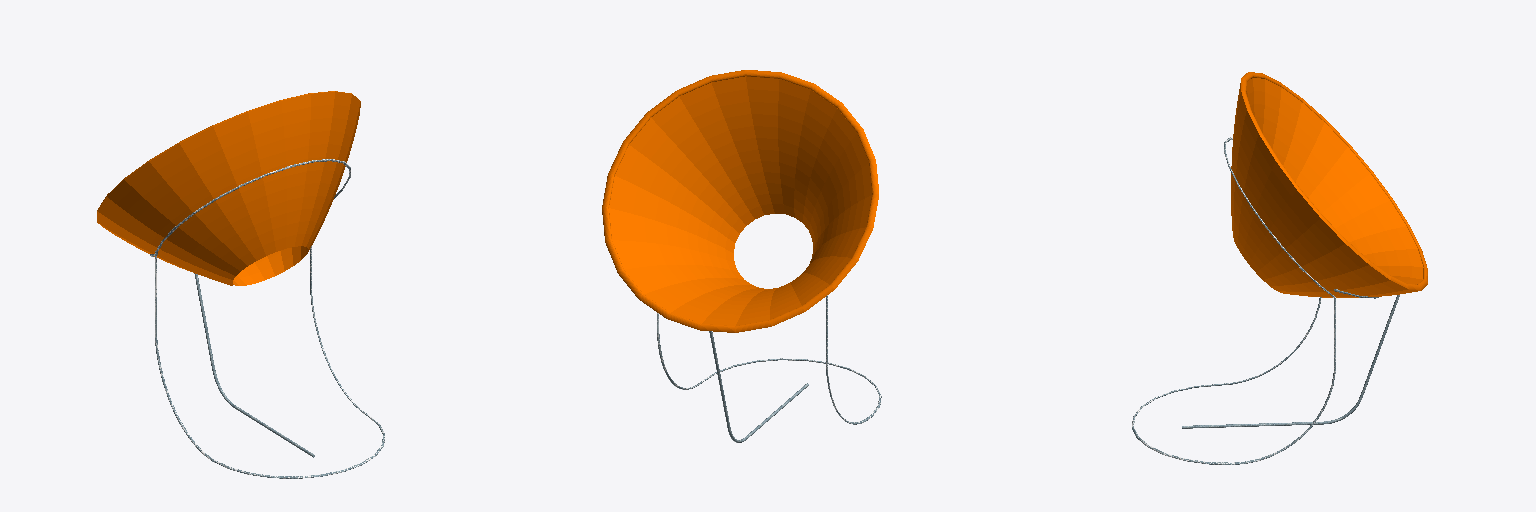
3 renders of one model, left to right at view 1: azimuth 30°, elevation 25°; view 2: azimuth 150°, elevation 25°; view 3: azimuth 270°, elevation 25°, orthographic.
Parts seen in each view (by area): view 1: mesh17_mesh17-geometry, mesh20_mesh20-geometry; view 2: mesh17_mesh17-geometry, mesh20_mesh20-geometry; view 3: mesh17_mesh17-geometry, mesh20_mesh20-geometry, mesh9_mesh9-geometry.
Boxes of the visible parts, <box> form: mesh17_mesh17-geometry: <box>97,91,360,285</box>; mesh20_mesh20-geometry: <box>155,159,384,478</box>; mesh17_mesh17-geometry: <box>602,70,878,332</box>; mesh20_mesh20-geometry: <box>657,295,881,424</box>; mesh17_mesh17-geometry: <box>1231,72,1427,297</box>; mesh20_mesh20-geometry: <box>1132,137,1335,464</box>; mesh9_mesh9-geometry: <box>1182,289,1398,427</box>.
Bounding box in the file's own units: 0.5267 × 0.6638 × 0.531.
Materials: 4 (1 with a texture image).